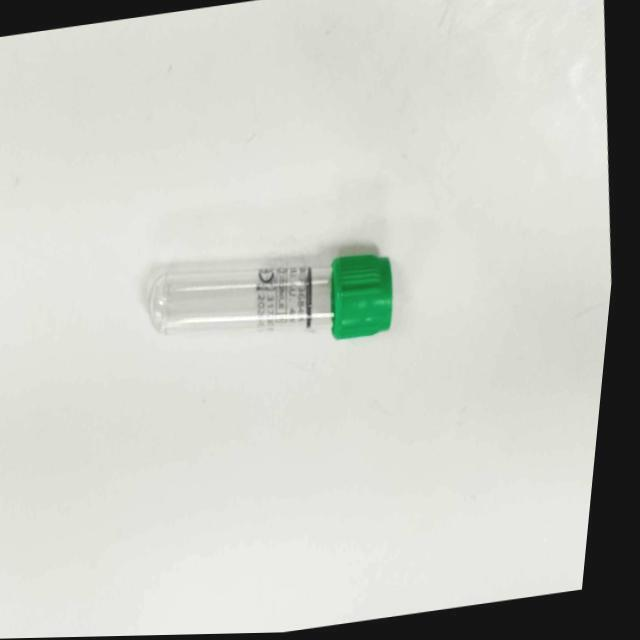Pathological: (1, 0, 613, 636)
Sharps: (144, 251, 394, 340)
